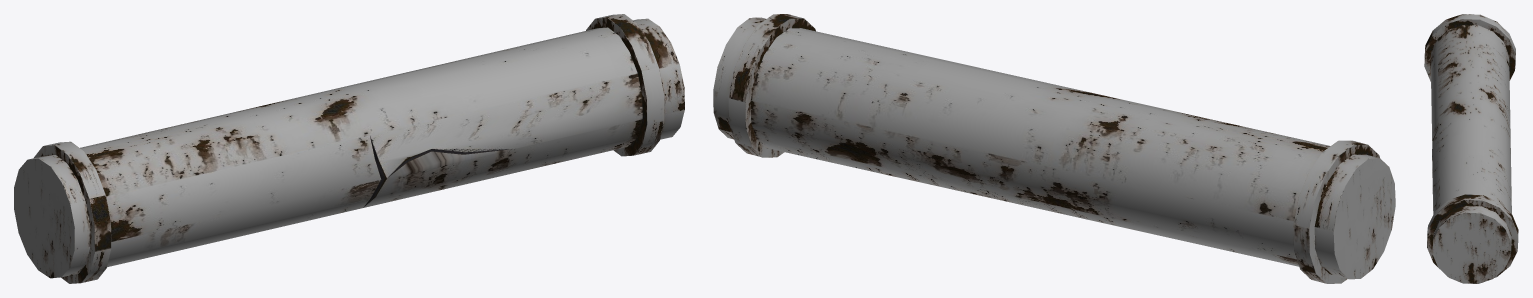
File: CrackedPipe.fbx
The picture shows the model from 3 angles, left to right: view 1: azimuth 30°, elevation 25°; view 2: azimuth 150°, elevation 25°; view 3: azimuth 270°, elevation 25°; orthographic projection. The views are drawn at different scales.
Visible parts, largest first — view 1: CrackedPipe; view 2: CrackedPipe; view 3: CrackedPipe.
Part boxes in pixels (x1,y1,x2,y2): CrackedPipe: [14, 14, 684, 283]; CrackedPipe: [713, 14, 1395, 283]; CrackedPipe: [1424, 14, 1518, 283].
Size of the model in its own units: 11.46 by 2.46 by 2.36.
1 material, 1 textured.
